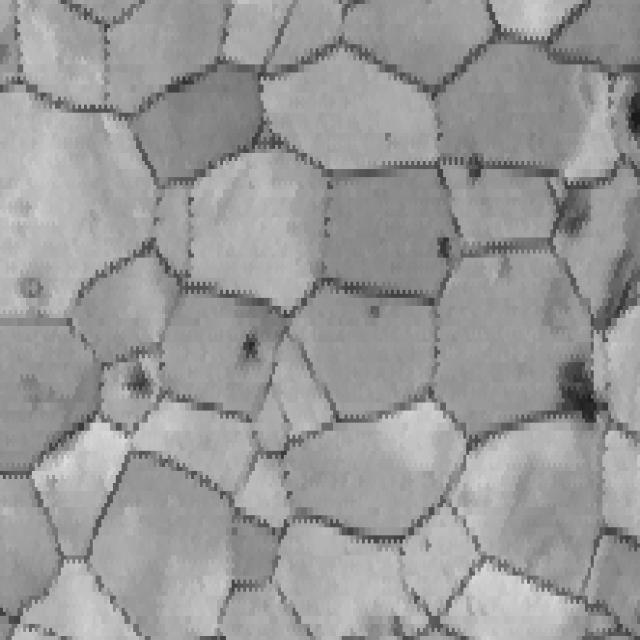good_void: (545, 354, 614, 429), (597, 238, 637, 336), (557, 185, 599, 247), (354, 602, 406, 639), (13, 266, 53, 313), (490, 247, 529, 288), (624, 85, 640, 147), (242, 326, 267, 364), (127, 364, 151, 403), (466, 149, 484, 185), (374, 123, 394, 152), (365, 303, 387, 325), (438, 237, 451, 264)
